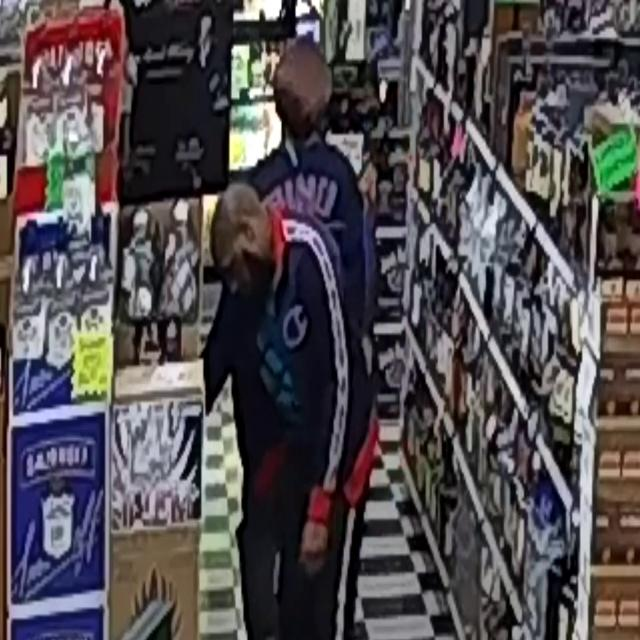normal: (190, 57, 383, 634), (160, 133, 377, 640)
